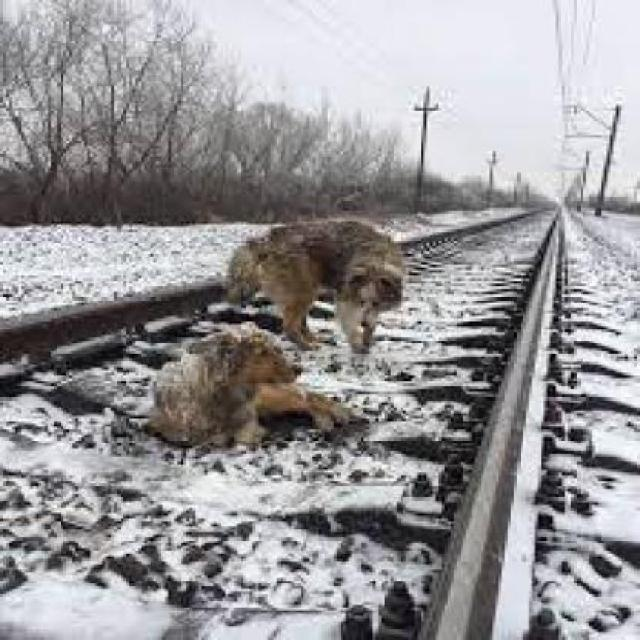danger: (120, 308, 402, 494), (216, 215, 437, 348)
rail: (10, 187, 613, 633)
